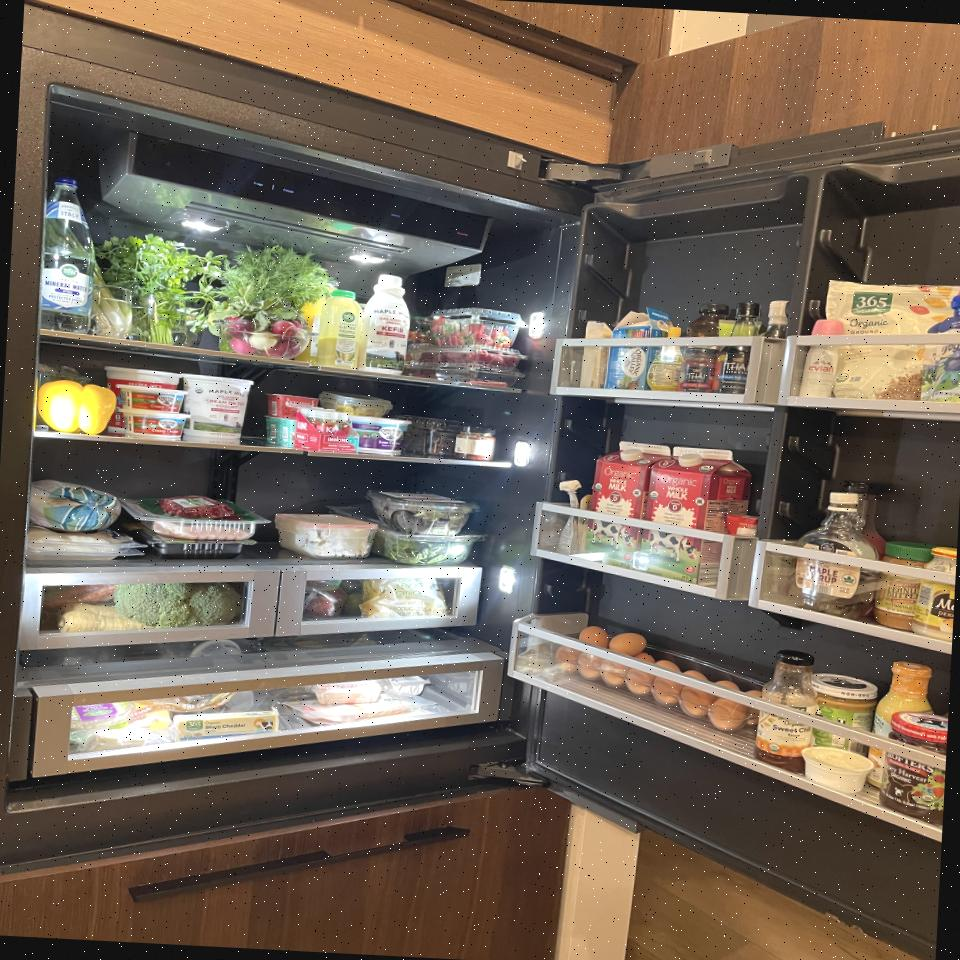Carne pollo: (133, 514, 269, 544)
Huevos: (543, 623, 768, 733)
Leche: (644, 445, 750, 590), (584, 439, 672, 574)
Queso: (171, 706, 279, 747), (579, 320, 613, 390)
Yogur: (176, 374, 255, 440), (348, 415, 413, 456)
Zanahoria: (44, 581, 116, 611)
bell pepper: (35, 378, 118, 436)
blueberries: (394, 414, 468, 458)
mayonnaise: (911, 547, 957, 643)
strawberries: (428, 306, 532, 348)
